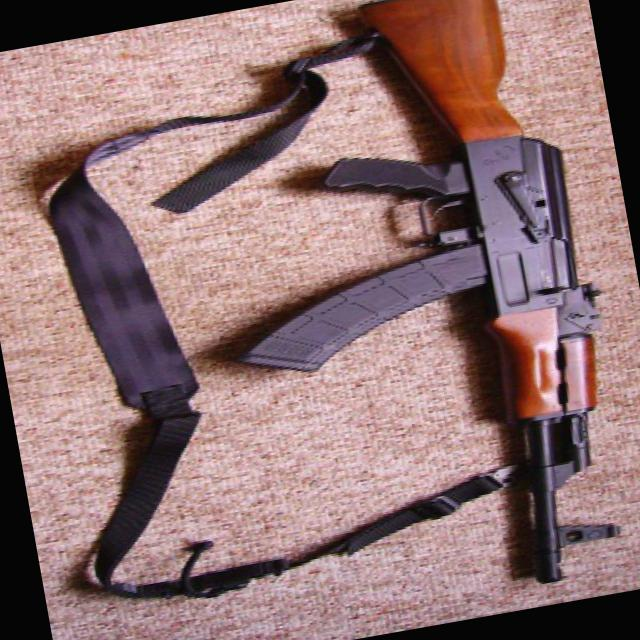long weapon: (180, 0, 639, 625)
